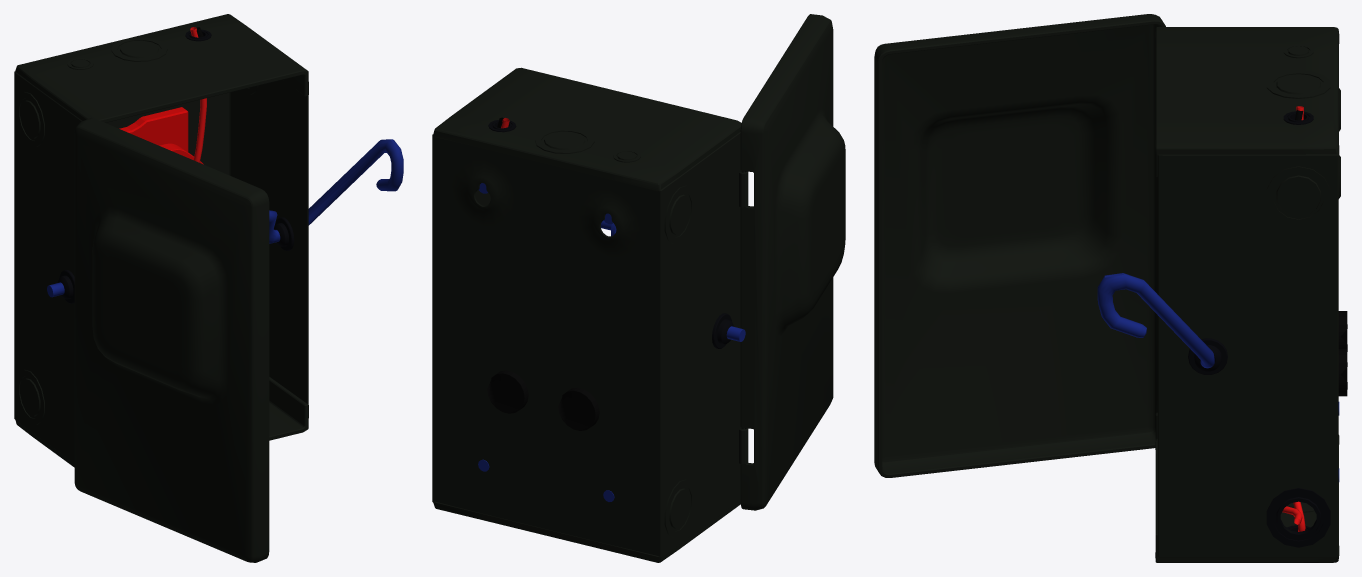
Rendered from CaseStudy2-ExteriorElectricBox.fbx.
3 renders of one model, left to right at view 1: azimuth 30°, elevation 25°; view 2: azimuth 150°, elevation 25°; view 3: azimuth 270°, elevation 25°, orthographic. The views are drawn at different scales.
Visible parts, largest first — view 1: Box413, Box414, Line449, Object021, Cylinder059, Cylinder060, Cylinder058, Line460; view 2: Box414, Box413, Cylinder025, Cylinder028, Cylinder059, Cylinder060, Cylinder058, Cylinder029; view 3: Box413, Box414, Line449, Cylinder061, Cylinder062, Cylinder058, Cylinder049.
Part boxes in pixels (x1,y1,x2,y2): Box413: (74,117,269,562); Box414: (14,14,308,467); Line449: (47,139,403,297); Object021: (119,107,188,152); Cylinder059: (16,92,44,146); Cylinder060: (16,369,44,424); Cylinder058: (111,37,167,61); Line460: (190,27,206,162); Box414: (432,67,748,562); Box413: (740,14,845,510); Cylinder025: (558,387,599,430); Cylinder028: (487,370,528,413); Cylinder059: (664,185,694,243); Cylinder060: (664,479,694,537); Cylinder058: (535,128,594,153); Cylinder029: (712,313,733,348); Box413: (874,14,1165,477); Box414: (1155,27,1340,562); Line449: (1097,273,1214,368); Cylinder061: (1266,166,1330,225); Cylinder062: (1266,488,1330,547); Cylinder058: (1266,70,1330,98); Cylinder049: (1188,338,1227,374).
Size of the model in its own units: 44.55 by 49.55 by 50.06.
